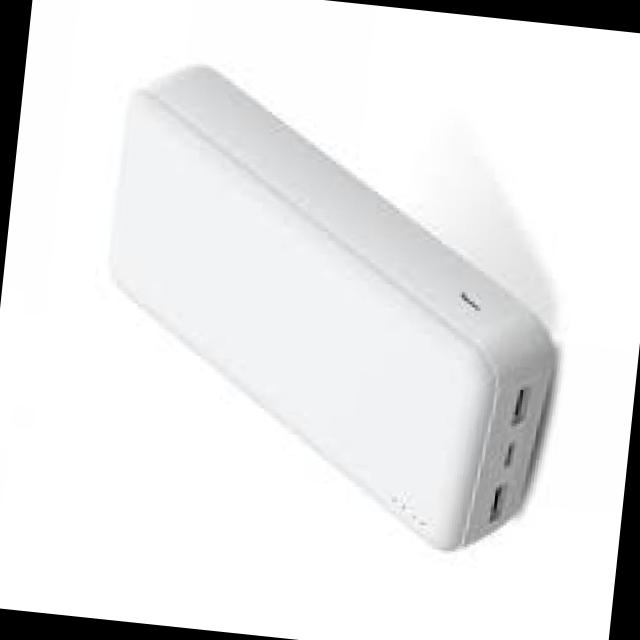portable-charger: (80, 56, 592, 560)
